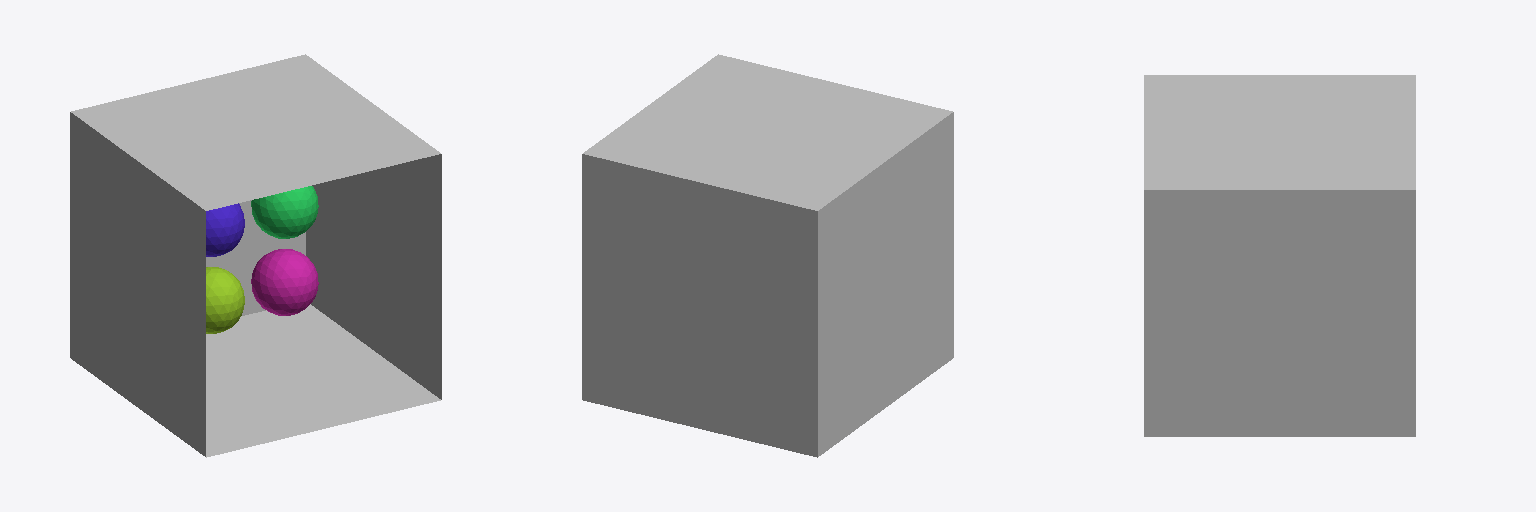
The model's file is Box_MetallicColor.obj.
3 renders of one model, left to right at view 1: azimuth 30°, elevation 25°; view 2: azimuth 150°, elevation 25°; view 3: azimuth 270°, elevation 25°, orthographic.
Visible parts, largest first — view 1: Cube.001, Icosphere.007, Icosphere.001, Icosphere.006, Icosphere; view 2: Cube.001; view 3: Cube.001.
Boxes of the visible parts, box(x1,y1,x2,y2) form: Cube.001: box(70, 54, 441, 457); Icosphere.007: box(251, 249, 318, 315); Icosphere.001: box(251, 186, 318, 238); Icosphere.006: box(206, 267, 244, 333); Icosphere: box(206, 203, 244, 256); Cube.001: box(582, 54, 953, 457); Cube.001: box(1144, 75, 1415, 436).
Bounding box in the file's own units: 4 × 4 × 4.